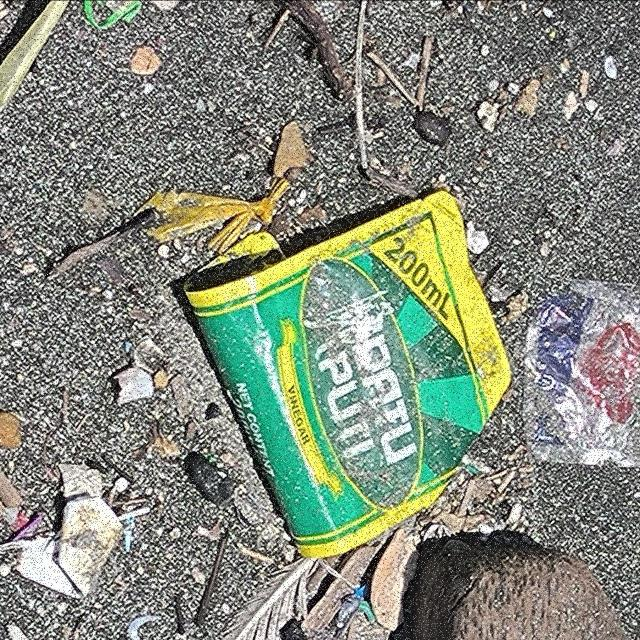plastic_waste: (183, 190, 513, 561), (523, 279, 640, 472)
